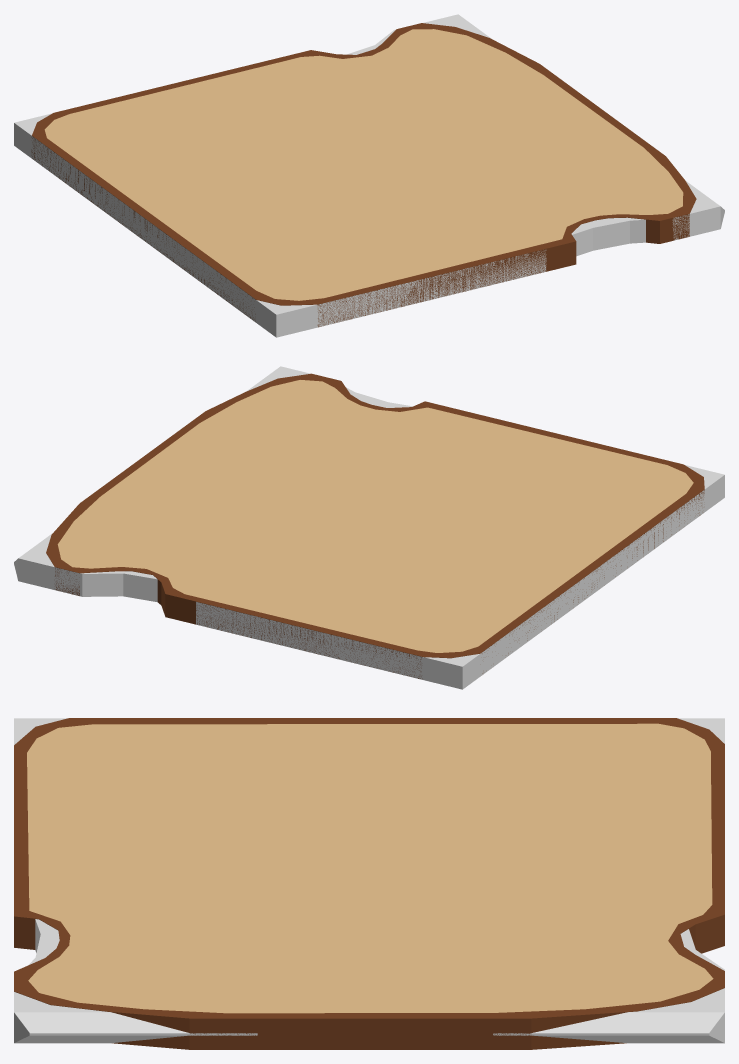
File: Bread.fbx
The picture shows the model from 3 angles, top to bottom: view 1: azimuth 30°, elevation 25°; view 2: azimuth 150°, elevation 25°; view 3: azimuth 270°, elevation 25°; orthographic projection. The views are drawn at different scales.
Visible parts, largest first — view 1: Plane.001, Plane; view 2: Plane.001, Plane; view 3: Plane.001, Plane.
Boxes of the visible parts, x1=… form: Plane.001: x1=31, y1=23, x2=696, y2=327; Plane: x1=14, y1=14, x2=724, y2=337; Plane.001: x1=46, y1=373, x2=704, y2=678; Plane: x1=14, y1=366, x2=724, y2=689; Plane.001: x1=14, y1=718, x2=724, y2=1049; Plane: x1=14, y1=718, x2=724, y2=1043.
Bounding box in the file's own units: 200 × 9.73 × 200.
